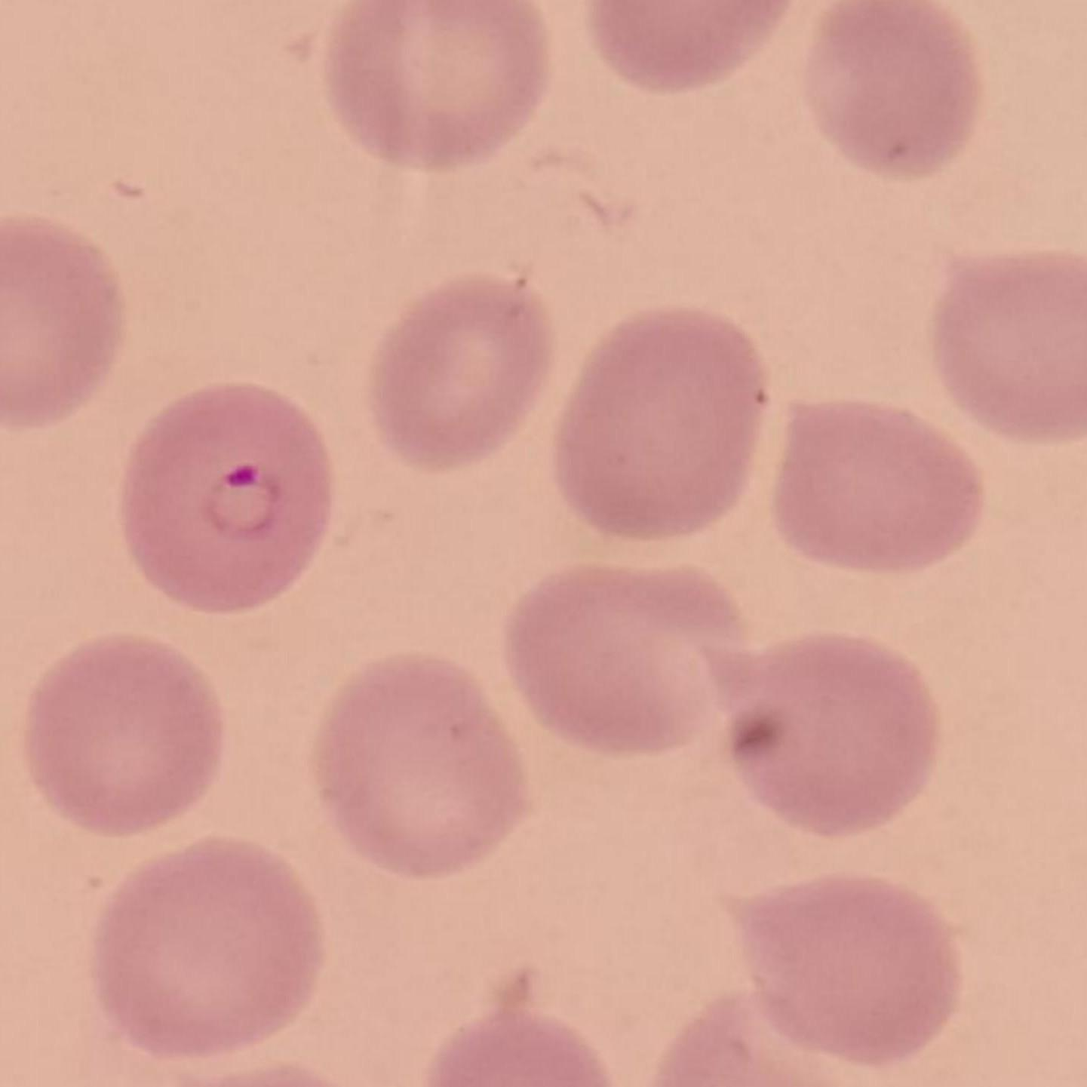Infected: (126, 391, 330, 614)
Uninfected: (702, 627, 942, 830), (503, 559, 749, 757), (96, 841, 325, 1047), (556, 310, 764, 533), (319, 660, 531, 876), (729, 881, 959, 1065), (25, 634, 236, 834), (774, 388, 984, 579), (332, 0, 553, 166), (375, 275, 553, 471)
